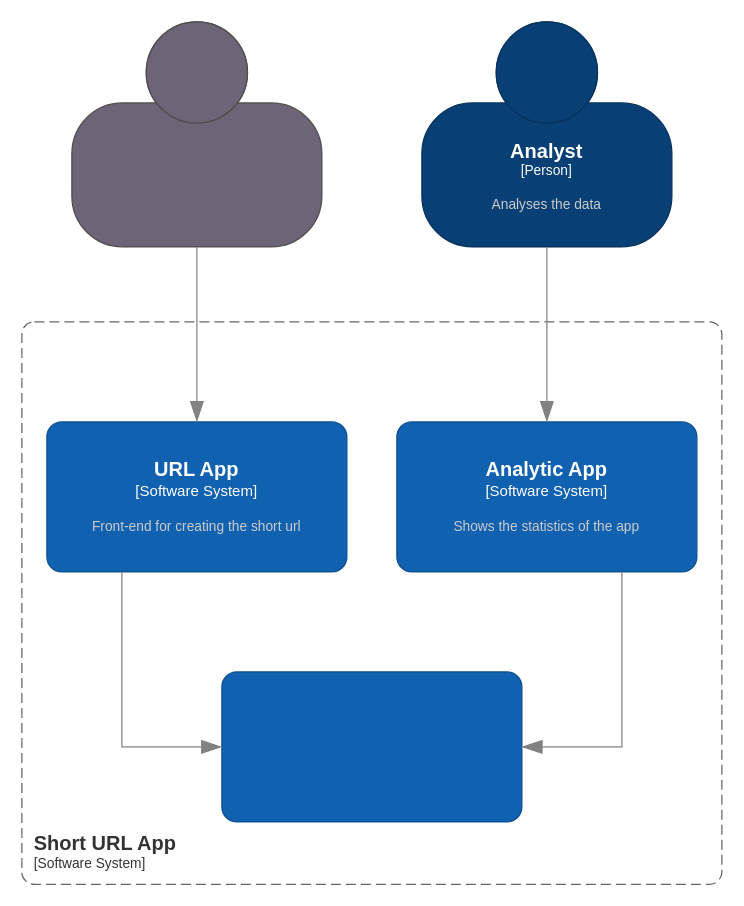
The diagram is 744 pixels wide and 906 high, and some of its shapes have lost their labels. The centre of each missing label's shape, as x and y in pixels:
"Short URL API [Software System] Back-end side of the App" goes at pixel 371 746.
"User [Person] Uses the Short URl" goes at pixel 196 134.
